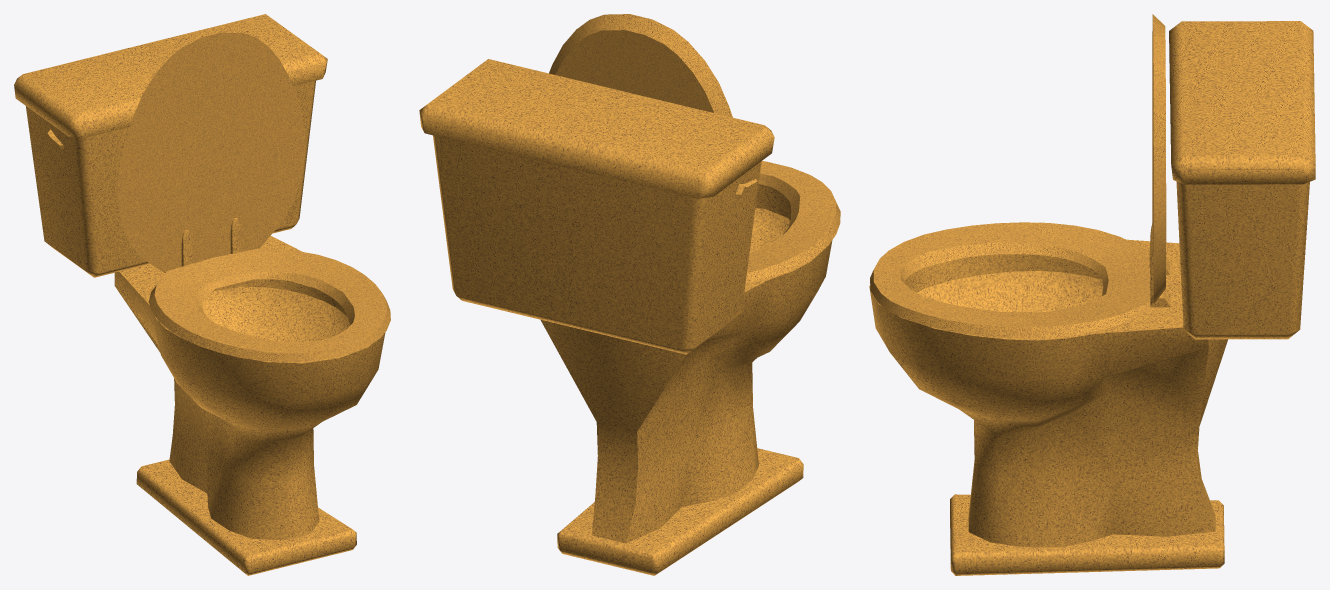
The model's file is Gold_Toilet.fbx.
3 renders of one model, left to right at view 1: azimuth 30°, elevation 25°; view 2: azimuth 150°, elevation 25°; view 3: azimuth 270°, elevation 25°, orthographic. The views are drawn at different scales.
Visible parts, largest first — view 1: Body, Lid, Seat; view 2: Body, Lid, Seat; view 3: Body, Seat, Lid.
Boxes of the visible parts, x1,y1,x2,y2 form: Body: [14, 14, 385, 575]; Lid: [117, 32, 305, 272]; Seat: [148, 248, 390, 362]; Body: [419, 59, 832, 575]; Lid: [549, 14, 732, 117]; Seat: [745, 161, 840, 282]; Body: [869, 21, 1315, 575]; Seat: [870, 222, 1150, 338]; Lid: [1149, 14, 1170, 303].
Bounding box in the file's own units: 128 × 217 × 168.
3 materials, 3 textured.
